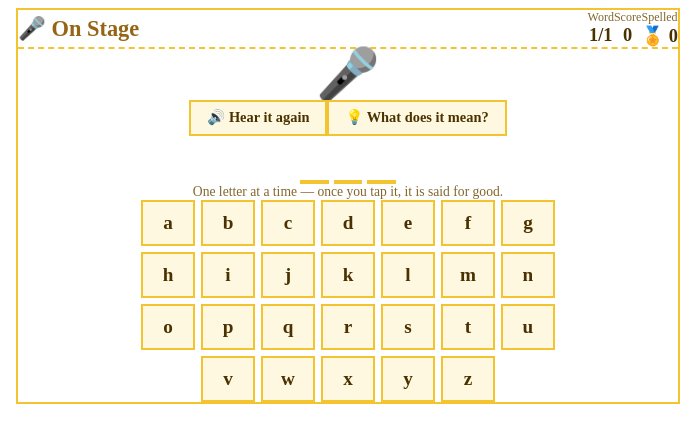
Test case: On Stage › shows one slot per letter, and fills them as they are said
Click the button "c" at (288, 223), box [261,200,315,246]
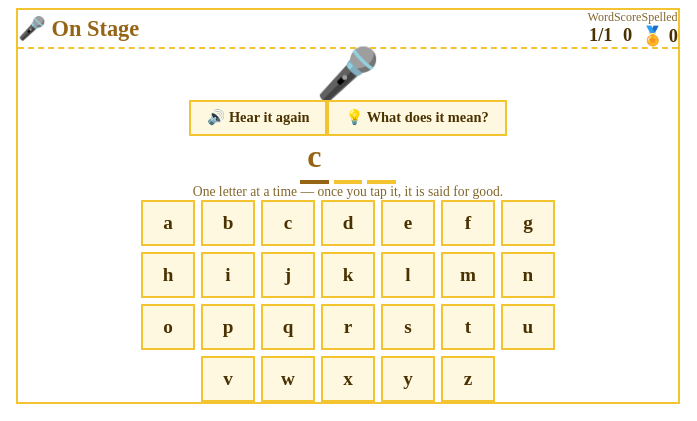
Now the element named "The letters you have said so far" reads "c", box [307,138,322,174]
